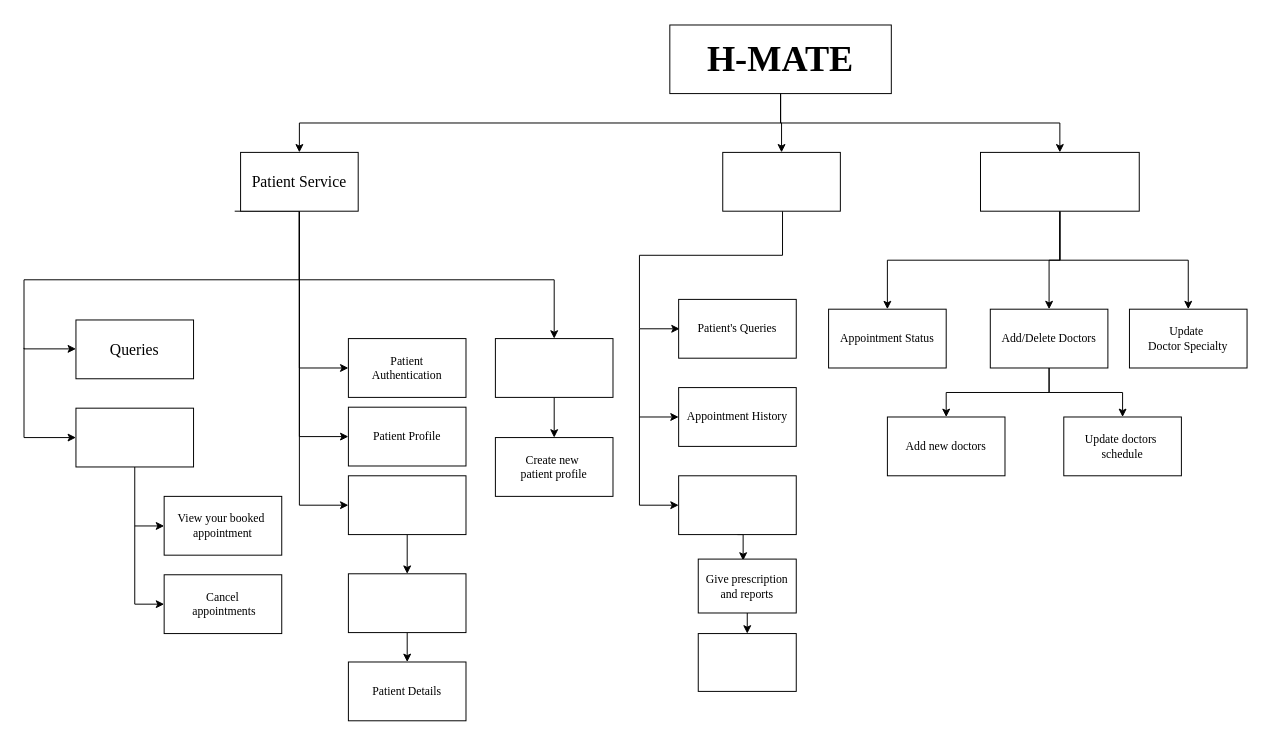
Some shapes in this 1264 by 738 pixel diagram are drawn without their labels. The box of each missing label's shape, as (x1, y1, x2, y2) in pixels:
Administration Services: (980, 151, 1139, 211)
Appointment: (347, 475, 466, 535)
Book Appointmennt: (347, 573, 466, 633)
Doctor Service: (722, 151, 840, 211)
My Appointment Checkout: (75, 407, 194, 467)
My Appointments: (678, 475, 796, 535)
New registration: (494, 338, 613, 397)
Update Appointment Status: (697, 633, 796, 691)
